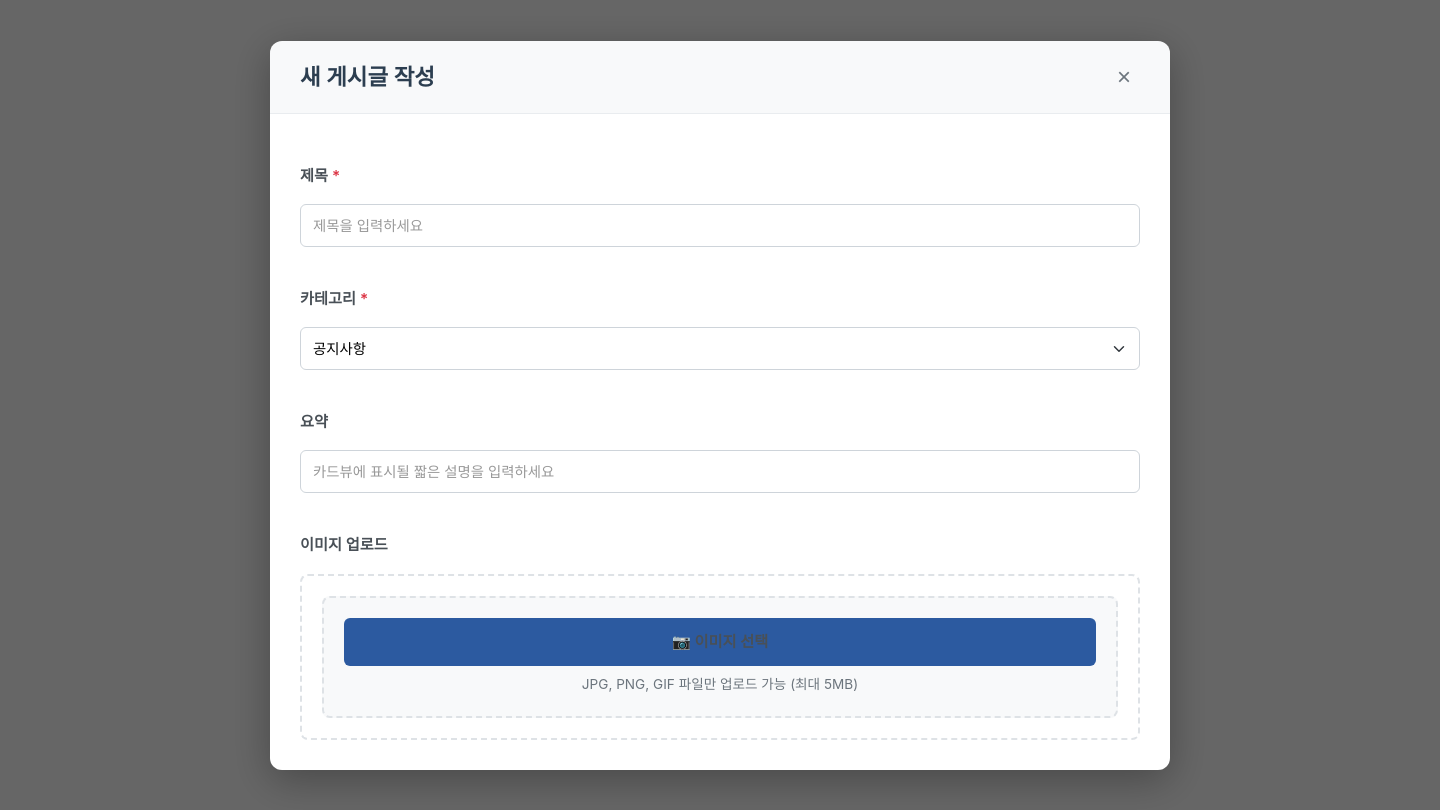
PostForm Component › 폼 로딩 상태일 때 버튼이 비활성화된다
Fill out form and submit to trigger loading state
Type "테스트 제목" into the field with test id "title-input".
click(720, 225); type("테스트 제목")  # box [300,204,1140,247]
(page scrolled)
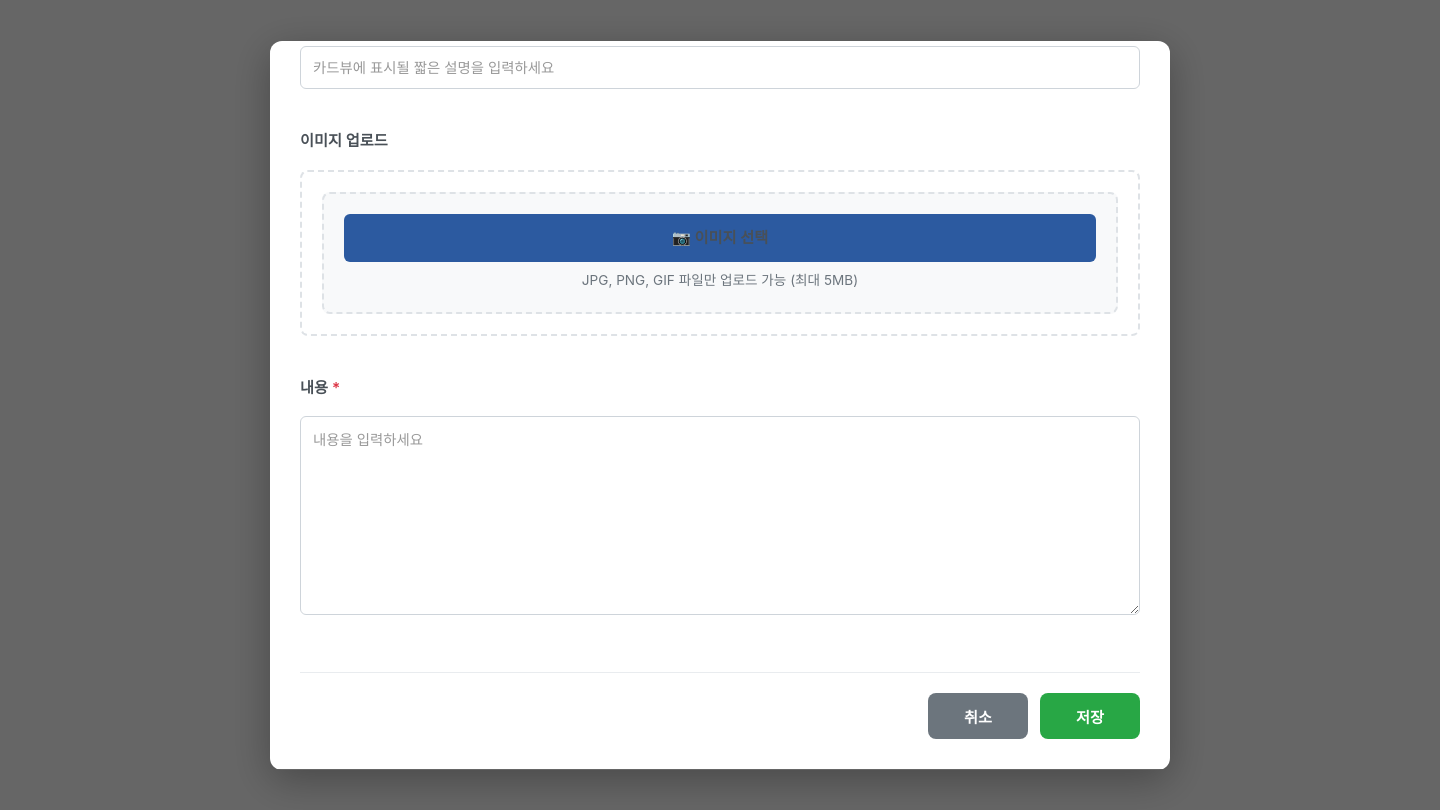
Type "테스트 내용" into the text box with test id "content-textarea".
click(720, 515); type("테스트 내용")  # box [300,416,1140,615]
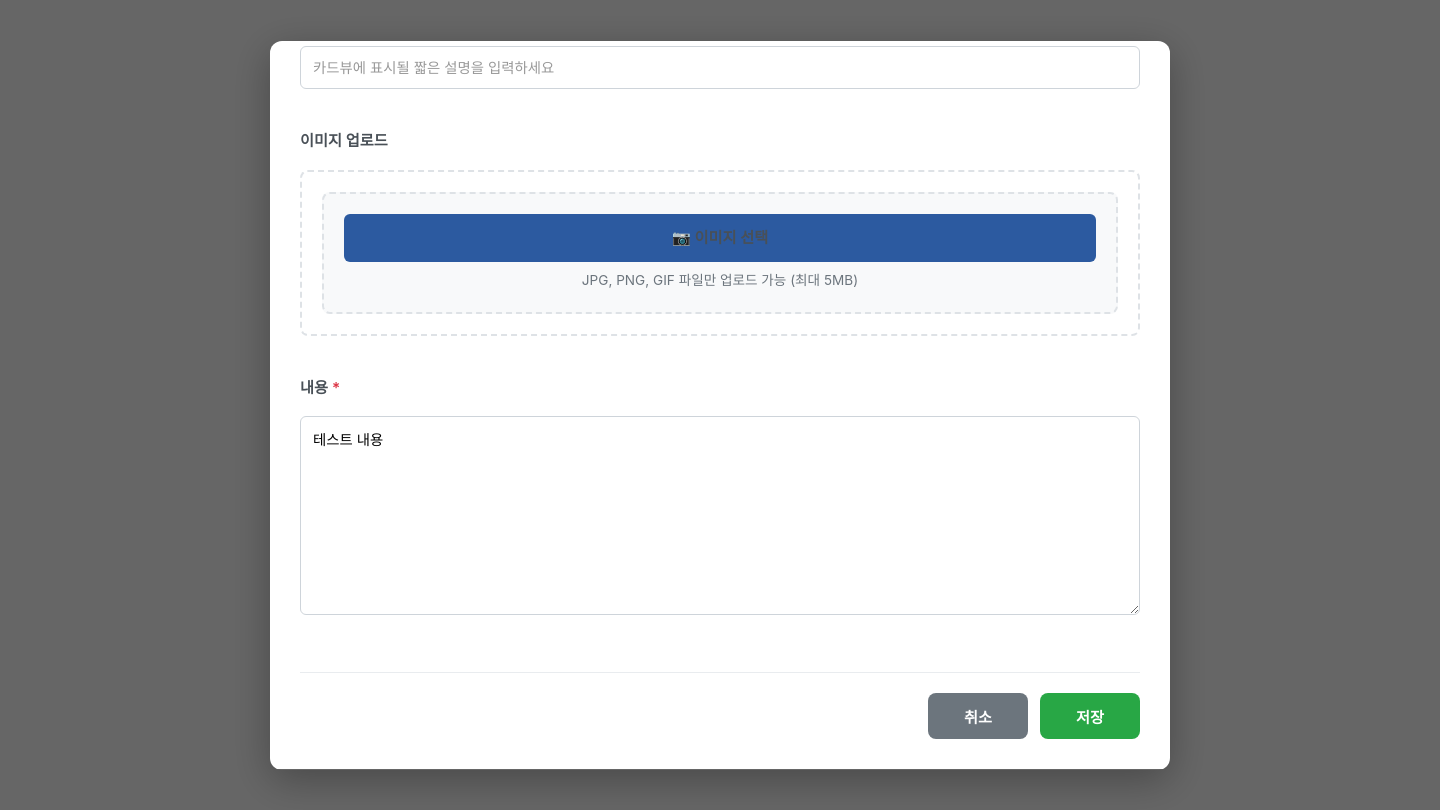
Click the button "저장".
click(1090, 716)  # box [1040,693,1140,739]
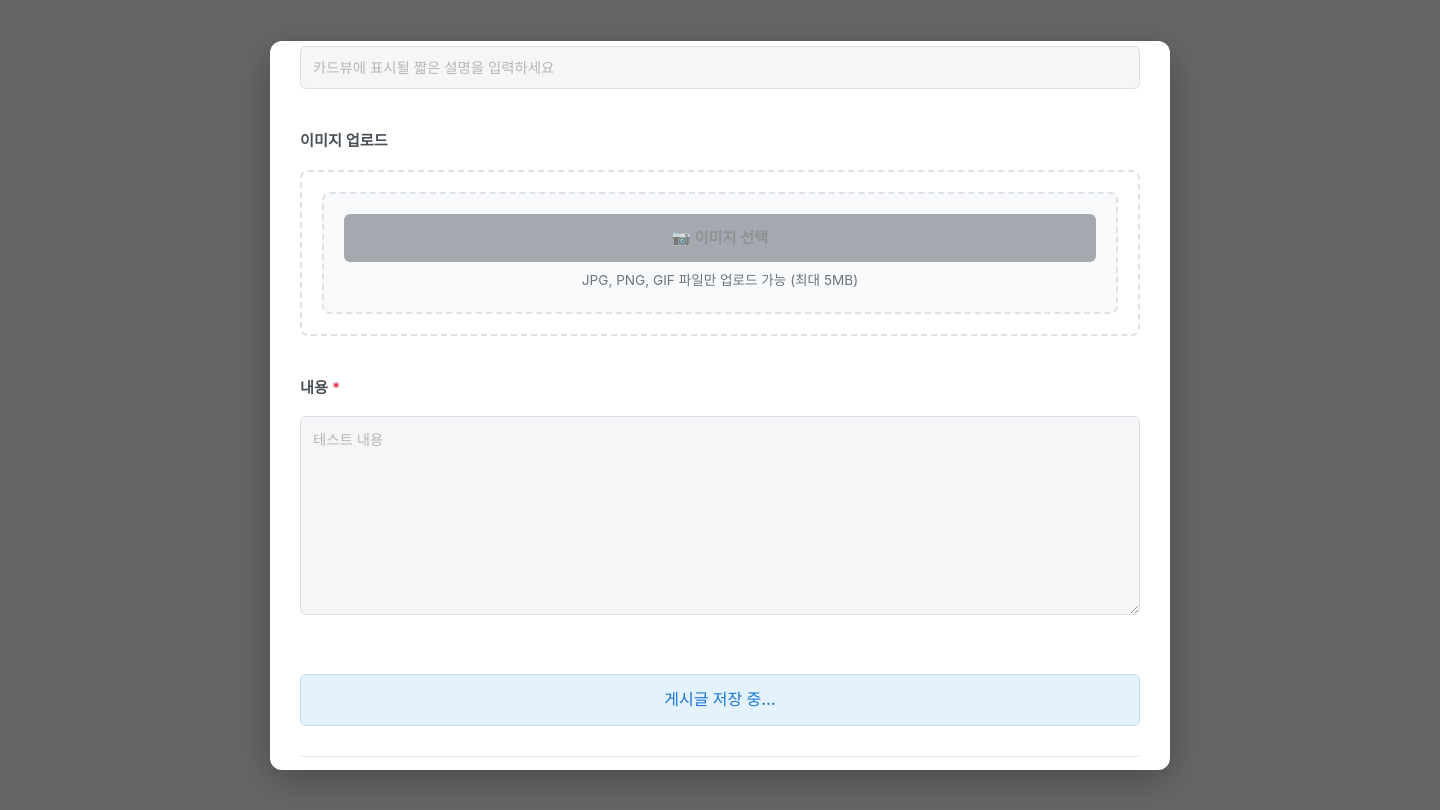
expect the text "게시글 저장 중..." is shown: met, box [300,674,1140,726]
